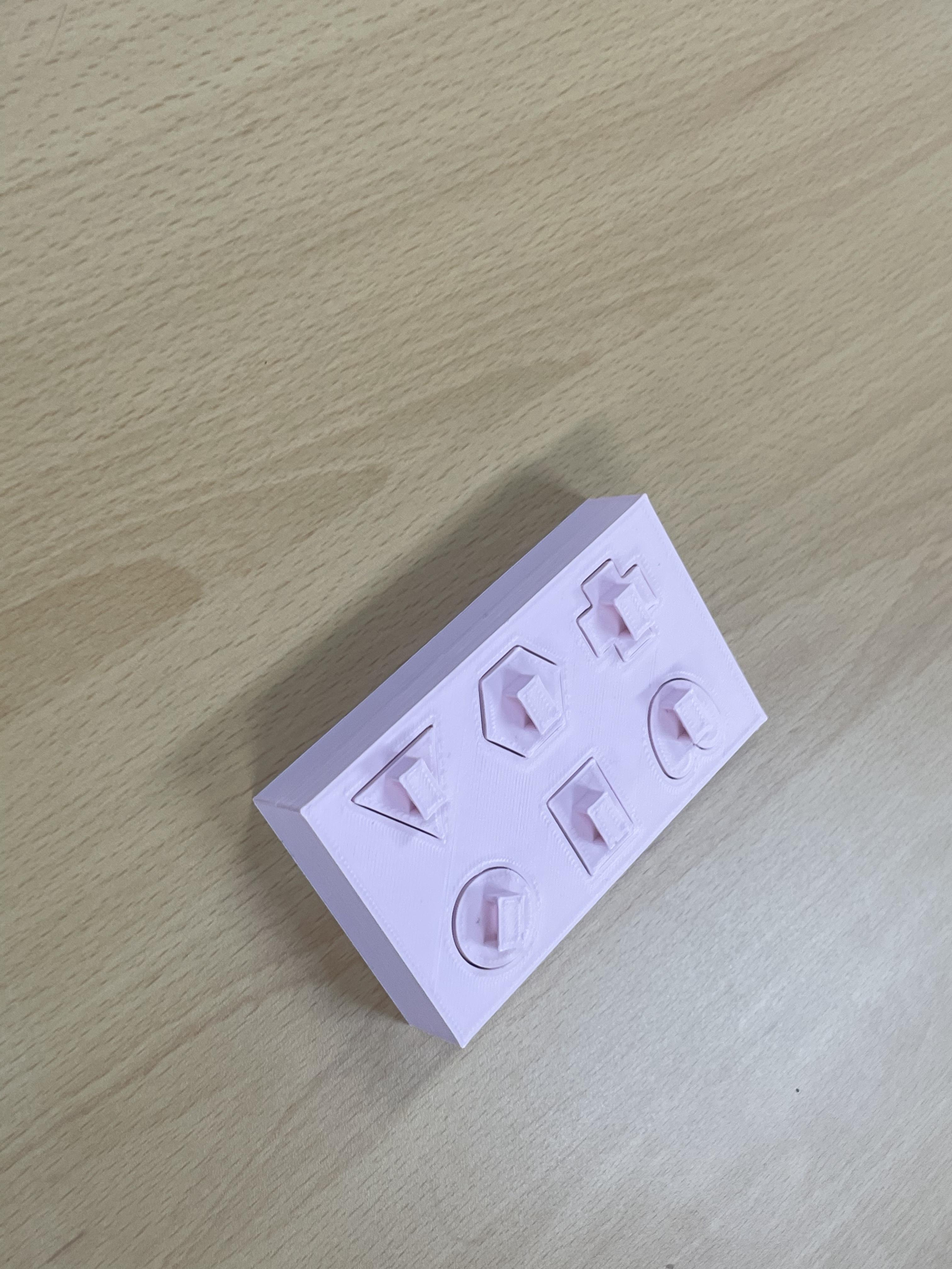solved: (236, 451, 788, 1072)
